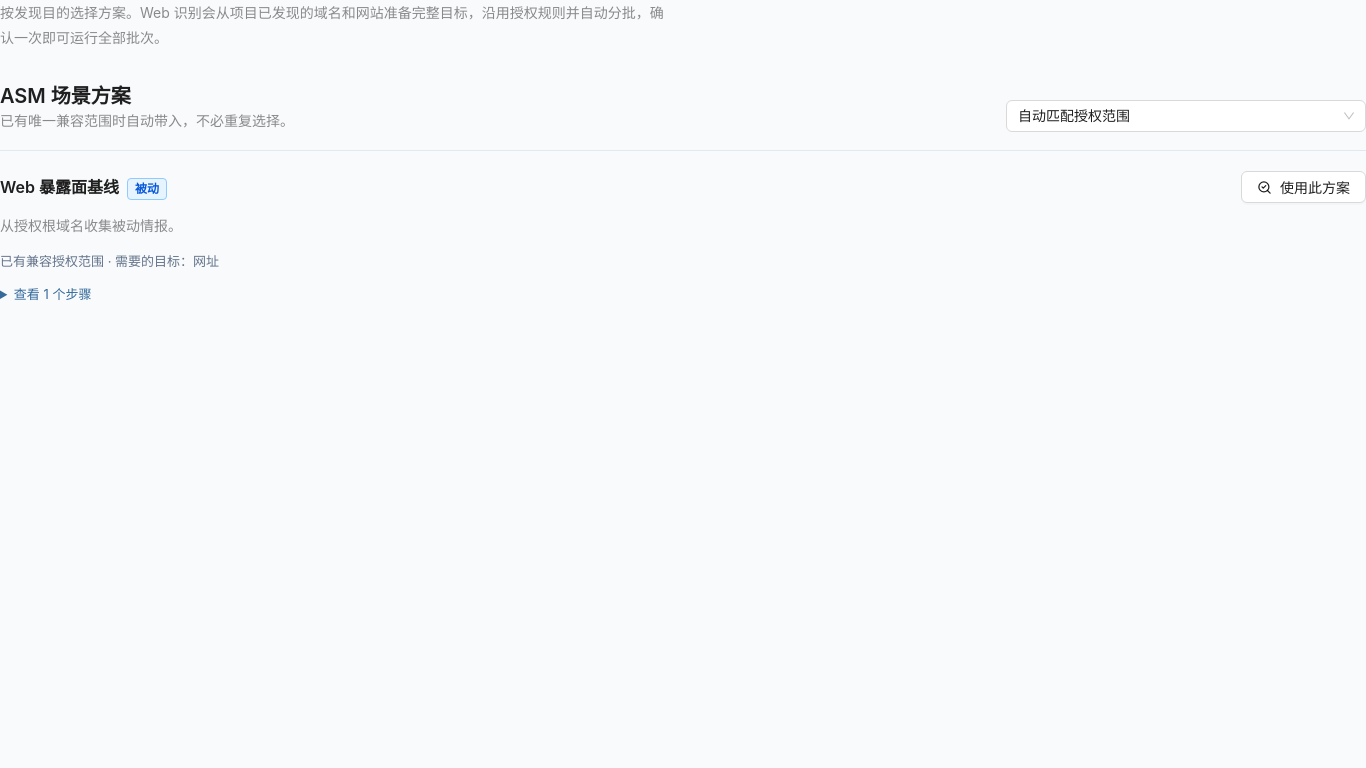
Test: BlueprintCatalog › recognizes a subdomain-only URL rule and shows concrete target resolution
The image size is (1366, 768).
Click the button with aria-label "预检 Web 暴露面基线" at point(1304, 187), box [1241, 171, 1365, 203]
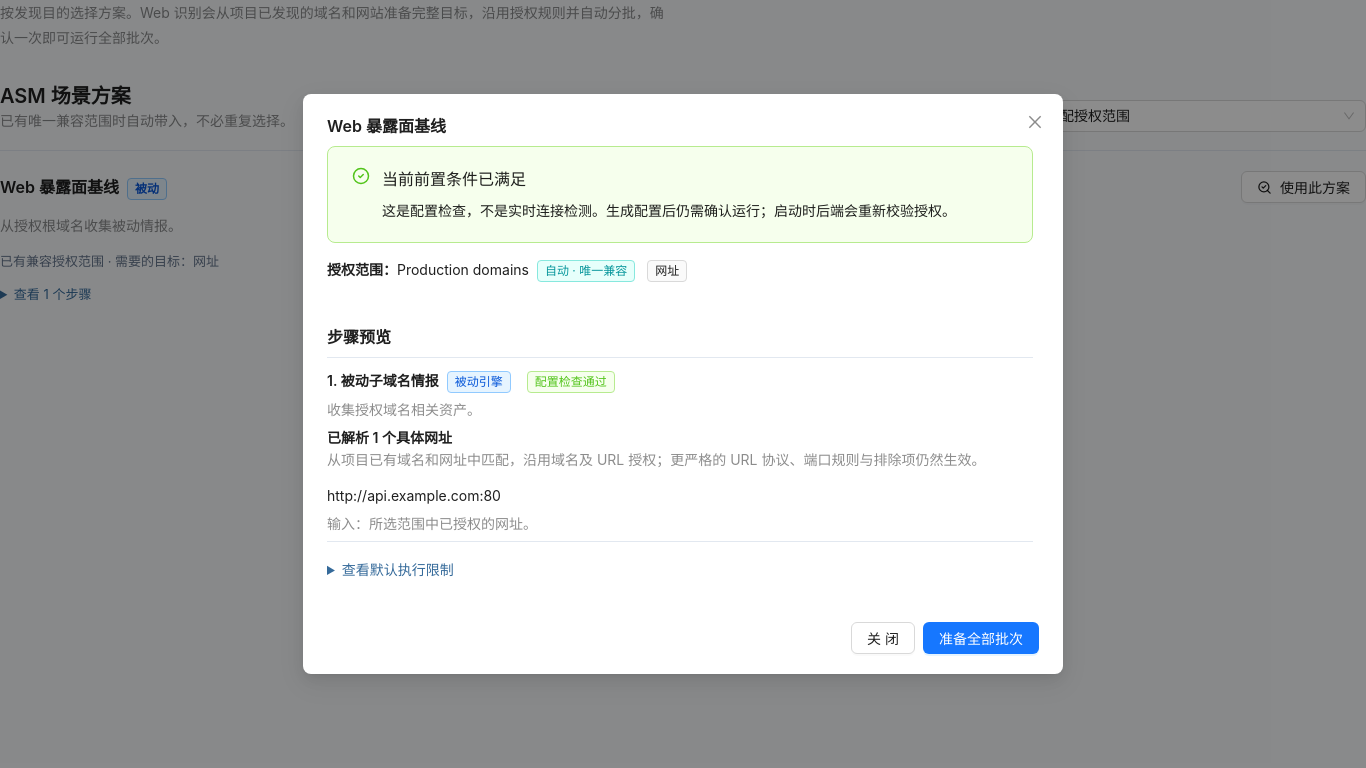
Result: the text "已解析 1 个具体网址" is shown at [327, 429, 452, 446]
Result: the text "http://api.example.com:80" is shown at [327, 487, 501, 504]
Result: the button "准备全部批次" is enabled at [923, 622, 1039, 654]
